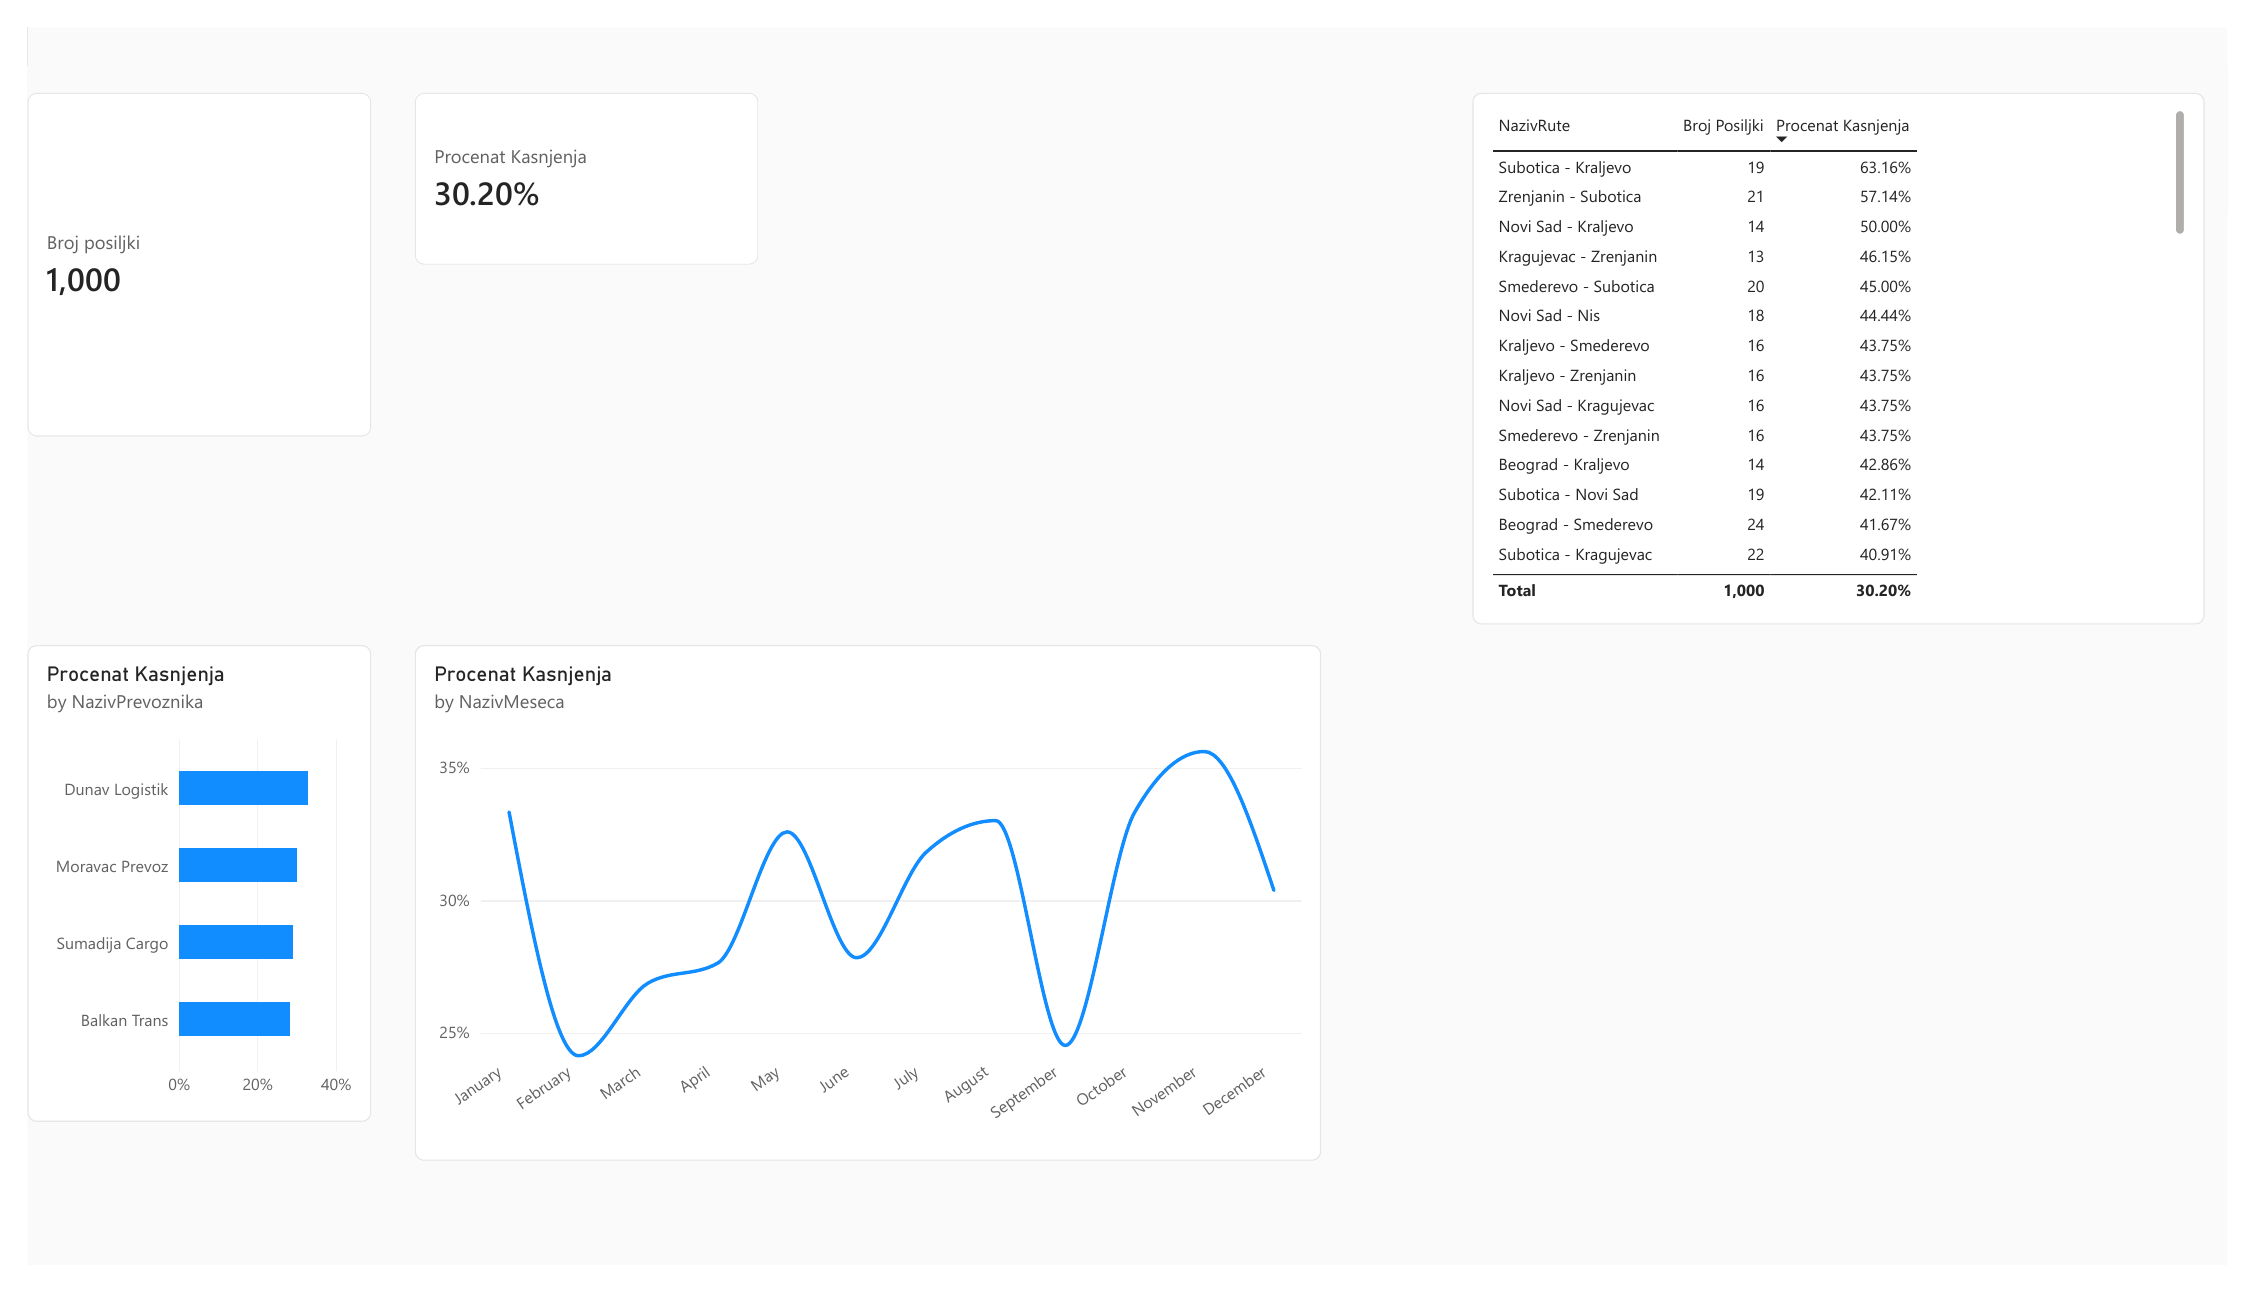

The page's visual inventory and layout, read from the dashboard file:
{"tool":"powerbi","page":{"name":"Operativni","canvas":[1920,1080],"ordinal":0},"visuals":[{"type":"cardVisual","fields":{"Data":["fact_Posiljke.Broj Posiljki Prikaz"]},"box":[0,57.1,300,300],"z":0},{"type":"cardVisual","fields":{"Data":["fact_Posiljke.Procenat Kasnjenja"]},"box":[337.5,57.1,300,150],"z":1001},{"type":"clusteredBarChart","fields":{"Category":["dim_Prevoznik.NazivPrevoznika"],"Y":["fact_Posiljke.Procenat Kasnjenja"]},"box":[0,539.3,300,416.1],"z":1002},{"type":"lineChart","fields":{"Category":["dim_Datum.NazivMeseca"],"Y":["fact_Posiljke.Procenat Kasnjenja"]},"box":[337.5,539.3,791.1,450],"z":1003},{"type":"tableEx","fields":{"Values":["dim_Ruta.NazivRute","fact_Posiljke.Broj Posiljki","fact_Posiljke.Procenat Kasnjenja"]},"box":[1260.7,57.1,639.3,464.3],"z":1004}]}

Visuals, with their boxes in screenshot pixels (x1, y1, x2, y2), scaled from the page's 1920x1080 canvas onto the 2255x1293 screenshot:
cardVisual - fact_Posiljke.Broj Posiljki Prikaz: pyautogui.locateOnScreen(0, 68, 352, 428)
cardVisual - fact_Posiljke.Procenat Kasnjenja: pyautogui.locateOnScreen(396, 68, 749, 248)
clusteredBarChart - dim_Prevoznik.NazivPrevoznika x fact_Posiljke.Procenat Kasnjenja: pyautogui.locateOnScreen(0, 646, 352, 1144)
lineChart - dim_Datum.NazivMeseca x fact_Posiljke.Procenat Kasnjenja: pyautogui.locateOnScreen(396, 646, 1326, 1184)
tableEx - dim_Ruta.NazivRute x fact_Posiljke.Broj Posiljki: pyautogui.locateOnScreen(1481, 68, 2232, 624)
